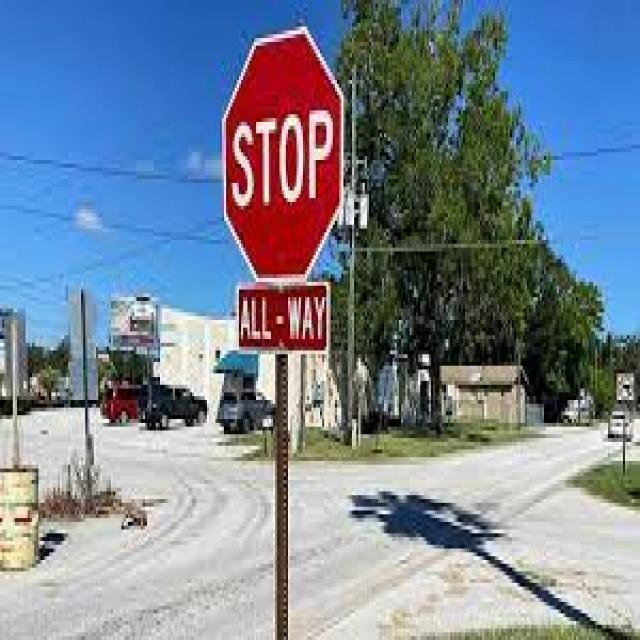stop-sign: (201, 34, 393, 278)
